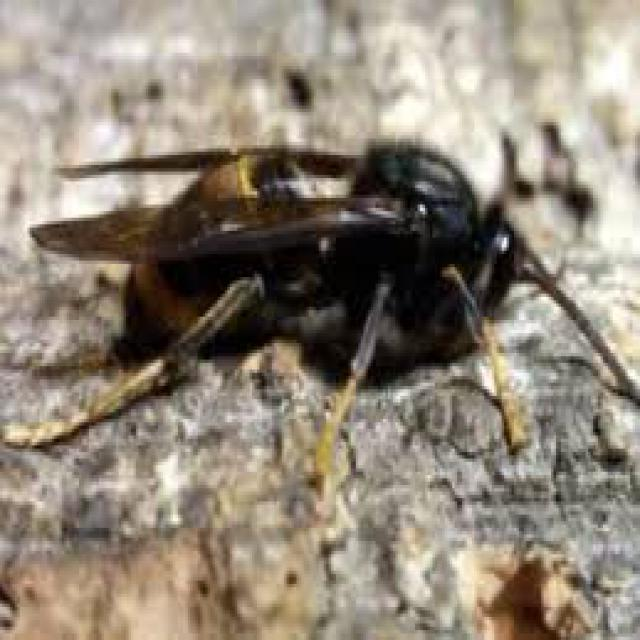Vespa Velutina: (0, 129, 638, 498)
